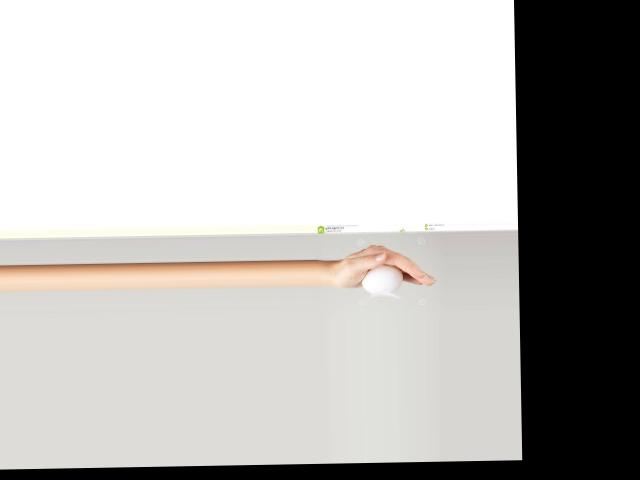egg: (361, 264, 404, 293)
